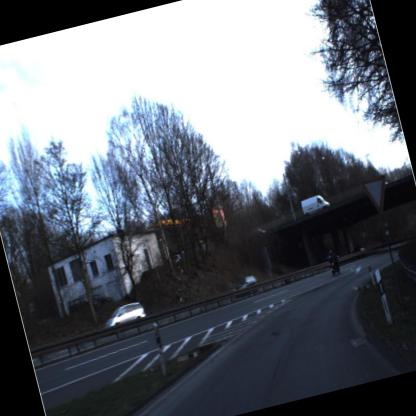other: (358, 172, 394, 218)
